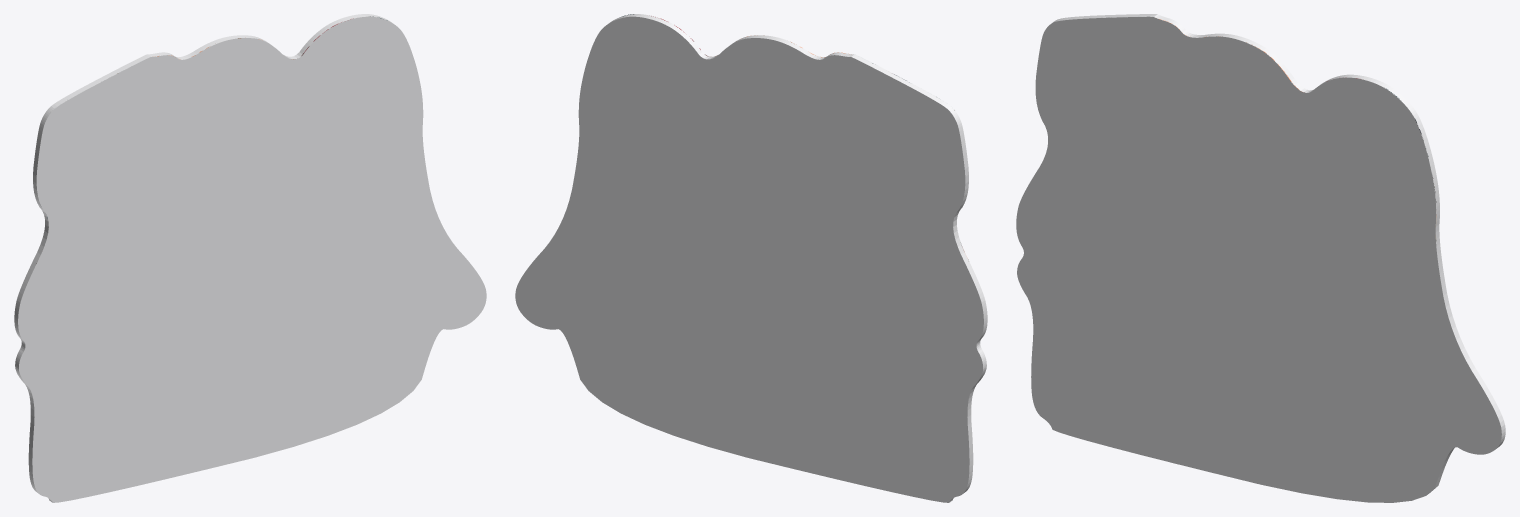
3 views of the same model, side by side, from view 1: azimuth 30°, elevation 25°; view 2: azimuth 150°, elevation 25°; view 3: azimuth 330°, elevation 25° (orthographic). The views are drawn at different scales.
Parts seen in each view (by area): view 1: 亚克力板; view 2: 亚克力板; view 3: 亚克力板.
Boxes of the visible parts, box(x1,y1,x2,y2) form: 亚克力板: box(14, 14, 486, 502); 亚克力板: box(515, 14, 987, 502); 亚克力板: box(1016, 14, 1505, 502).
Size of the model in its own units: 0.7294 by 0.6339 by 0.01.
2 materials, 1 textured.
